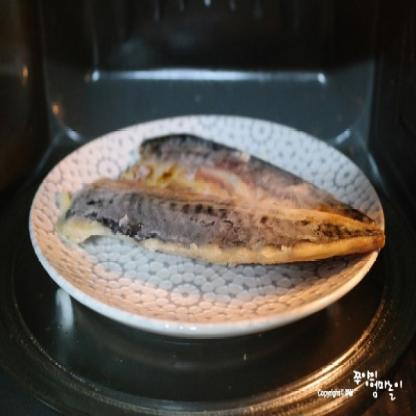Peixe: (53, 118, 390, 298)
